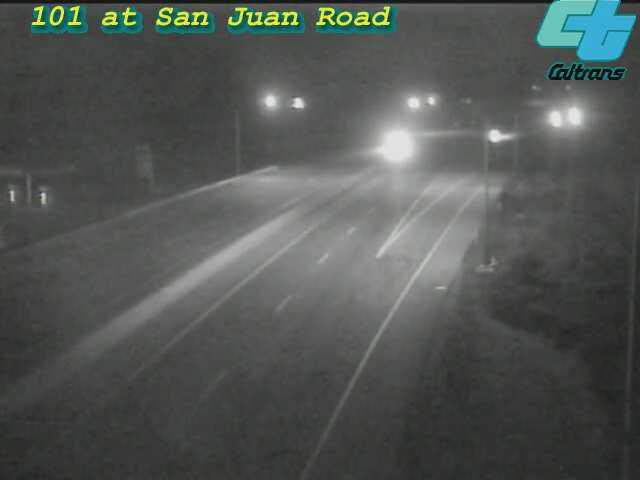vehicle: (373, 117, 423, 167), (468, 112, 518, 162), (532, 94, 582, 144), (550, 92, 600, 142)
